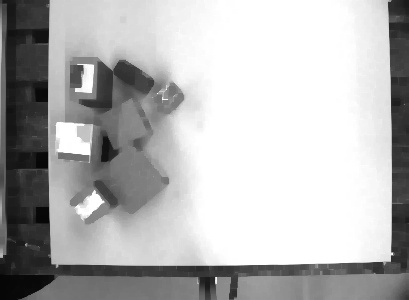b1: (150, 77, 184, 115)
b2: (66, 180, 120, 226)
b3: (111, 56, 156, 95)
b4: (48, 117, 109, 164)
b5: (94, 141, 170, 217)
b6: (66, 54, 113, 109)
b7: (95, 96, 155, 152)
